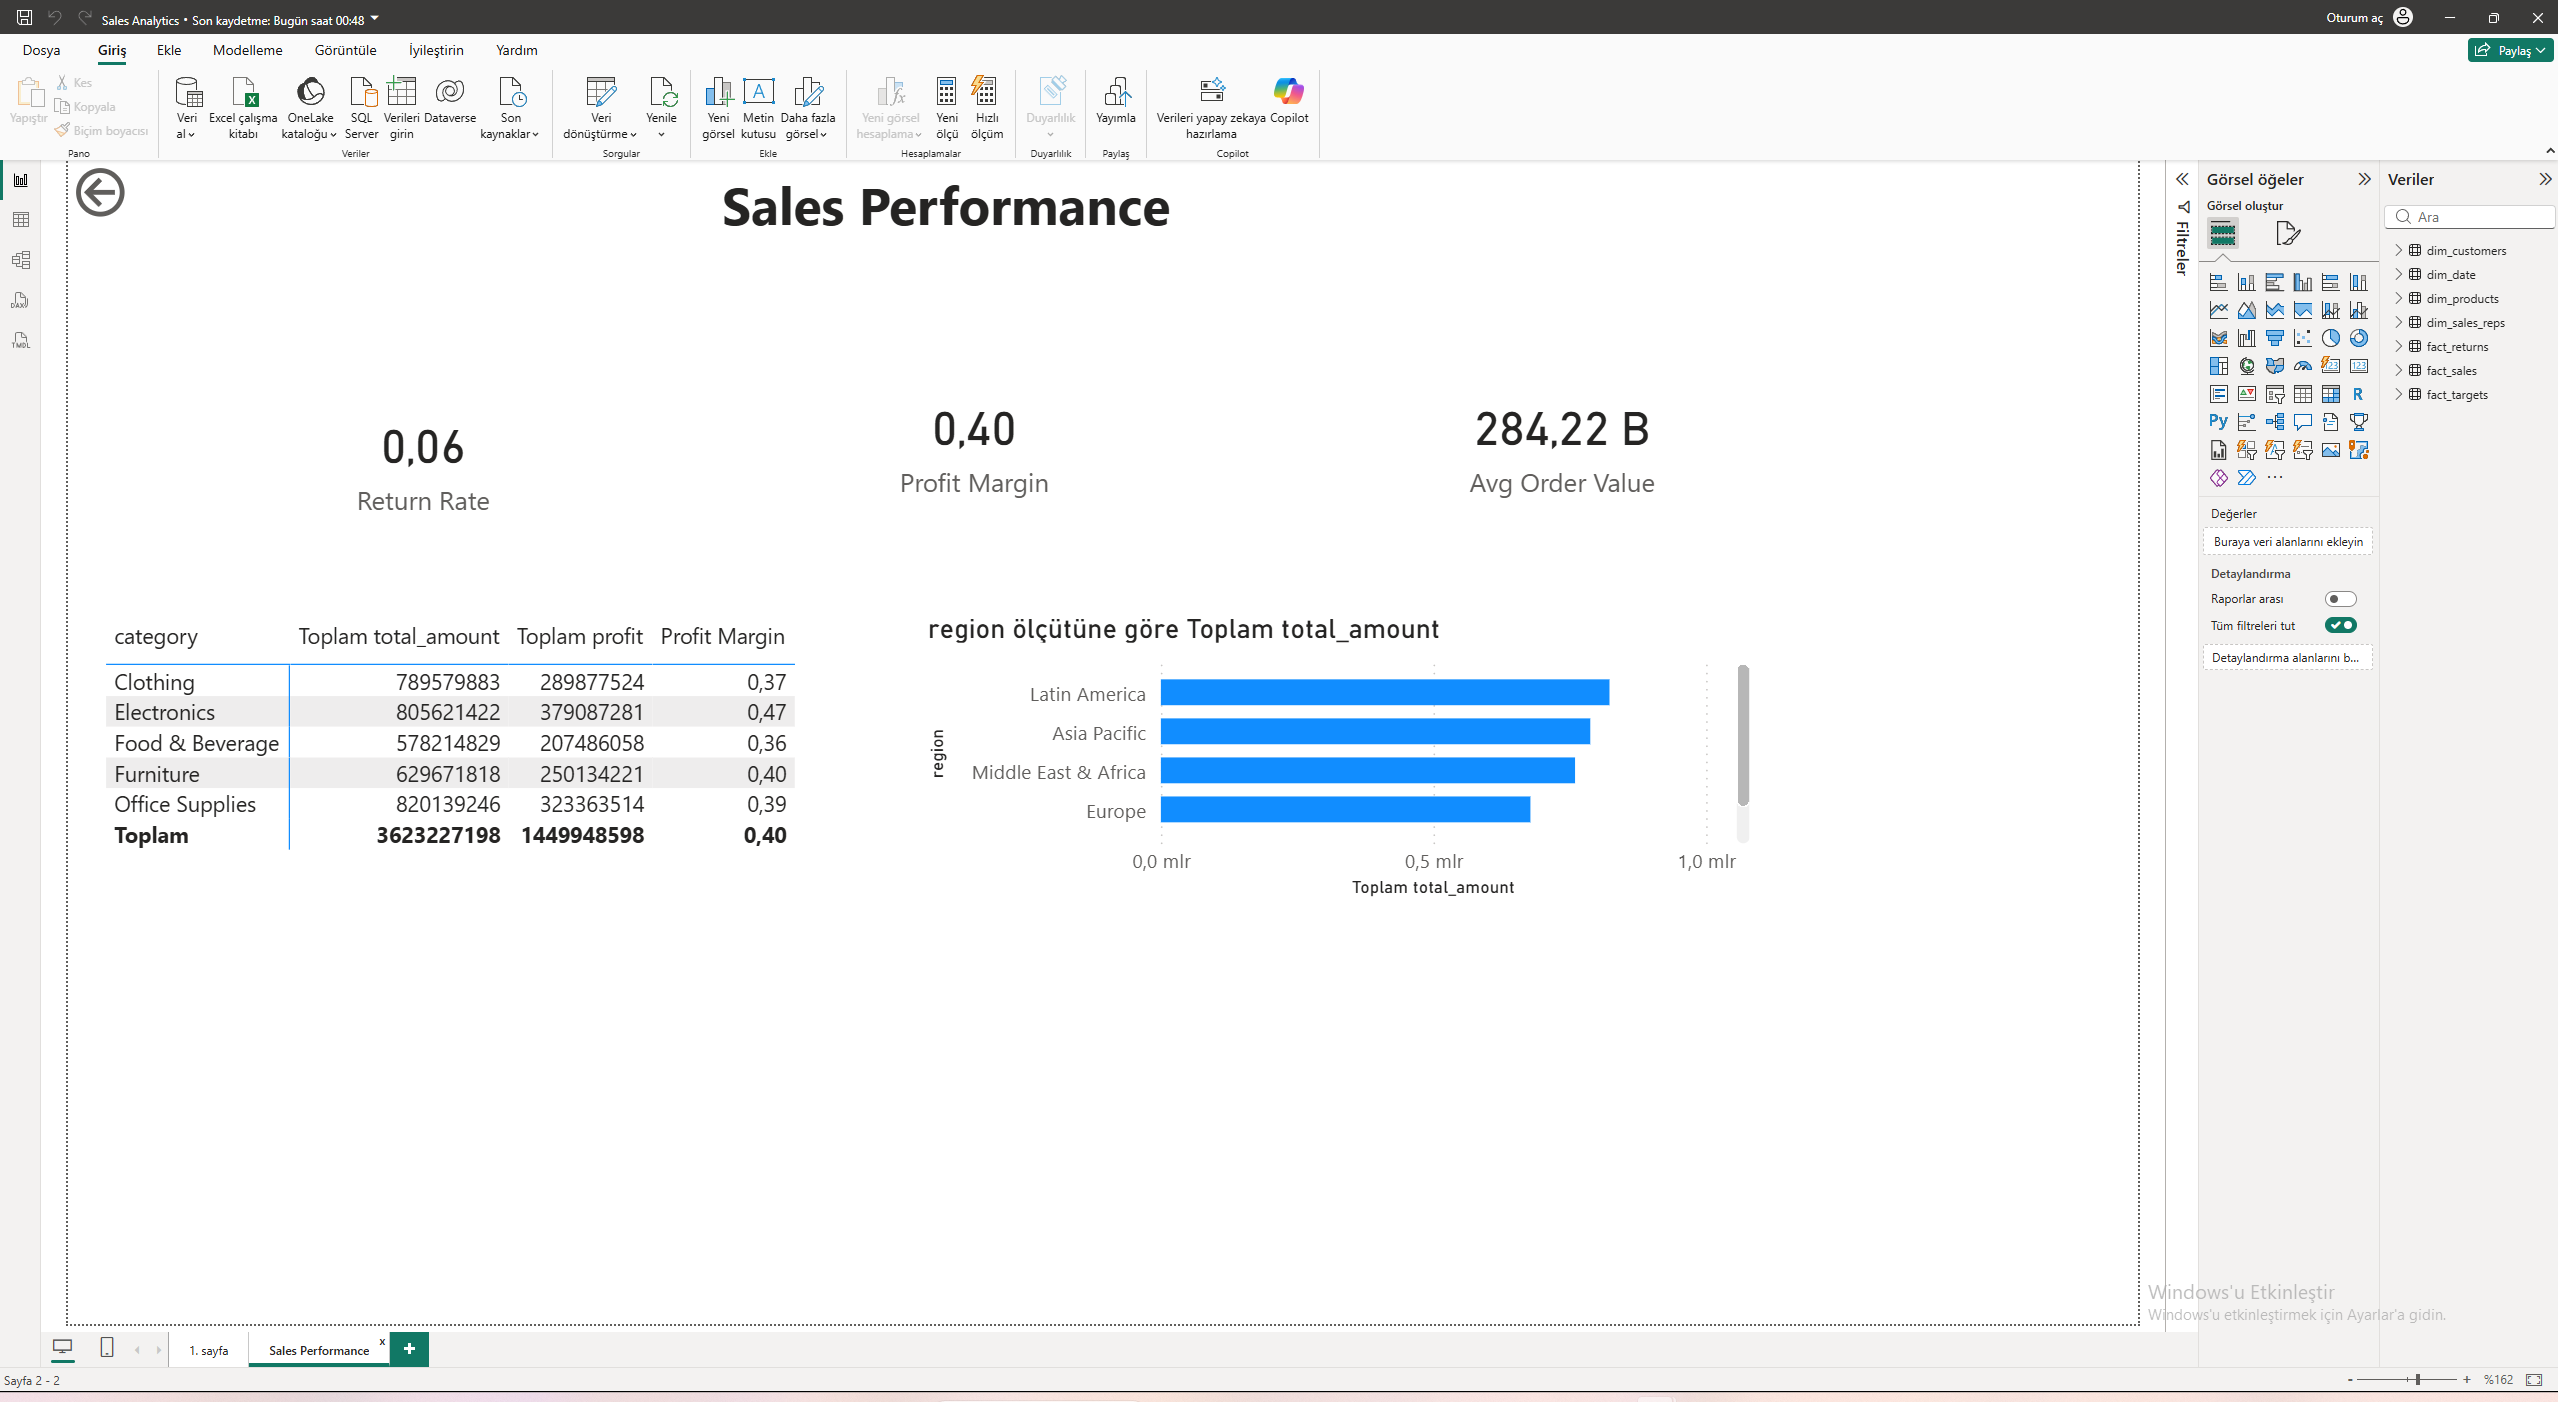

The page's visual inventory and layout, read from the dashboard file:
{"tool":"powerbi","page":{"name":"Sales Performance","canvas":[1280,720],"ordinal":1},"visuals":[{"type":"textbox","box":[399.6,0,621.8,279.7],"z":0},{"type":"card","fields":{"Values":["fact_sales.Profit Margin"]},"box":[410.8,92.4,299.7,164.8],"z":2000},{"type":"card","fields":{"Values":["fact_sales.Avg Order Value"]},"box":[774.2,92.4,299.7,164.8],"z":3000},{"type":"card","fields":{"Values":["fact_sales.Return Rate"]},"box":[69.9,92.4,299.7,187.3],"z":3001},{"type":"pivotTable","fields":{"Rows":["dim_products.category"],"Values":["Sum(fact_sales.total_amount)","Sum(fact_sales.profit)","fact_sales.Profit Margin"]},"box":[18.7,279.7,518.2,179.8],"z":3002},{"type":"clusteredBarChart","fields":{"Category":["dim_customers.region"],"Y":["Sum(fact_sales.total_amount)"]},"box":[527,279.7,518.2,181.1],"z":3003},{"type":"actionButton","box":[0,0,100,40],"z":3004}]}

Visuals, with their boxes on the page's 1280x720 design canvas (x1, y1, x2, y2). These are canvas units, not pixel positions in the 2558x1402 screenshot, which may show the page scaled, cropped or inside an application window:
textbox: (x1=400, y1=0, x2=1021, y2=280)
card - fact_sales.Profit Margin: (x1=411, y1=92, x2=710, y2=257)
card - fact_sales.Avg Order Value: (x1=774, y1=92, x2=1074, y2=257)
card - fact_sales.Return Rate: (x1=70, y1=92, x2=370, y2=280)
pivotTable - dim_products.category x Sum(fact_sales.total_amount): (x1=19, y1=280, x2=537, y2=460)
clusteredBarChart - dim_customers.region x Sum(fact_sales.total_amount): (x1=527, y1=280, x2=1045, y2=461)
actionButton: (x1=0, y1=0, x2=100, y2=40)
